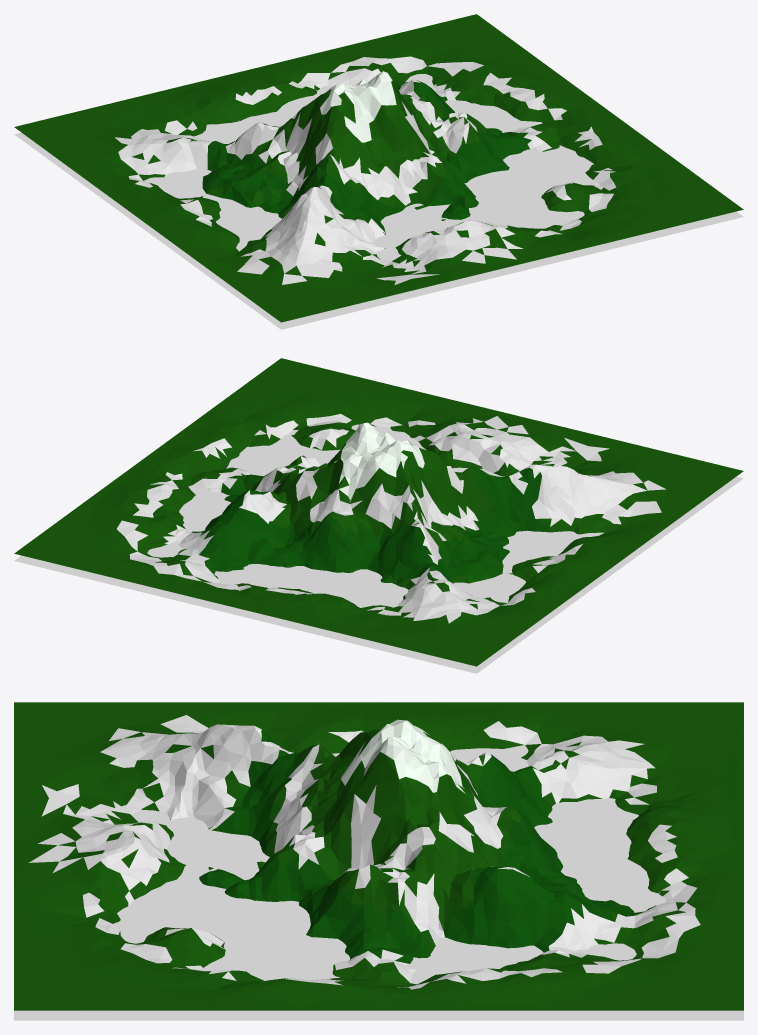
The model's file is Mountain1BBC.fbx.
The picture shows the model from 3 angles, top to bottom: view 1: azimuth 30°, elevation 25°; view 2: azimuth 150°, elevation 25°; view 3: azimuth 270°, elevation 25°; orthographic projection. The views are drawn at different scales.
Visible parts, largest first — view 1: Landscape.003, Landscape_plane; view 2: Landscape.003, Landscape_plane; view 3: Landscape.003, Landscape_plane.
Boxes of the visible parts, x1=… form: Landscape.003: x1=14, y1=14, x2=743, y2=322; Landscape_plane: x1=14, y1=74, x2=743, y2=329; Landscape.003: x1=14, y1=358, x2=743, y2=666; Landscape_plane: x1=14, y1=424, x2=743, y2=673; Landscape.003: x1=14, y1=702, x2=743, y2=1010; Landscape_plane: x1=14, y1=745, x2=743, y2=1020.
Size of the model in its own units: 200 by 47.57 by 200.
